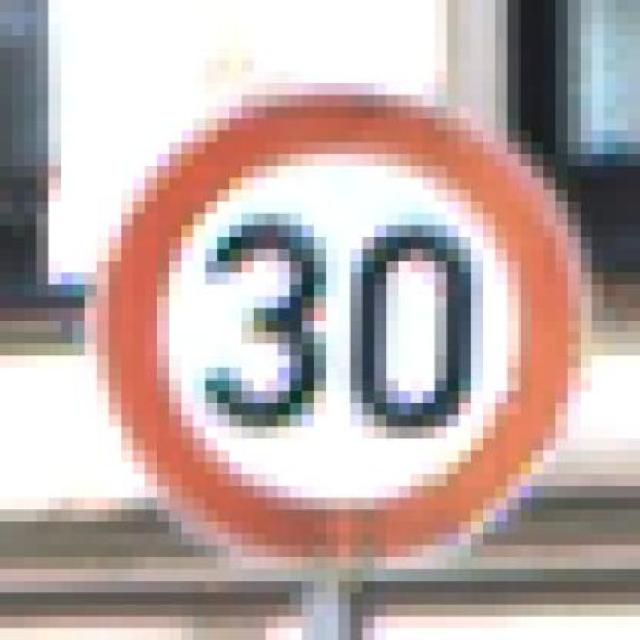Speed Limit 30 KMPh: (36, 83, 629, 605)
